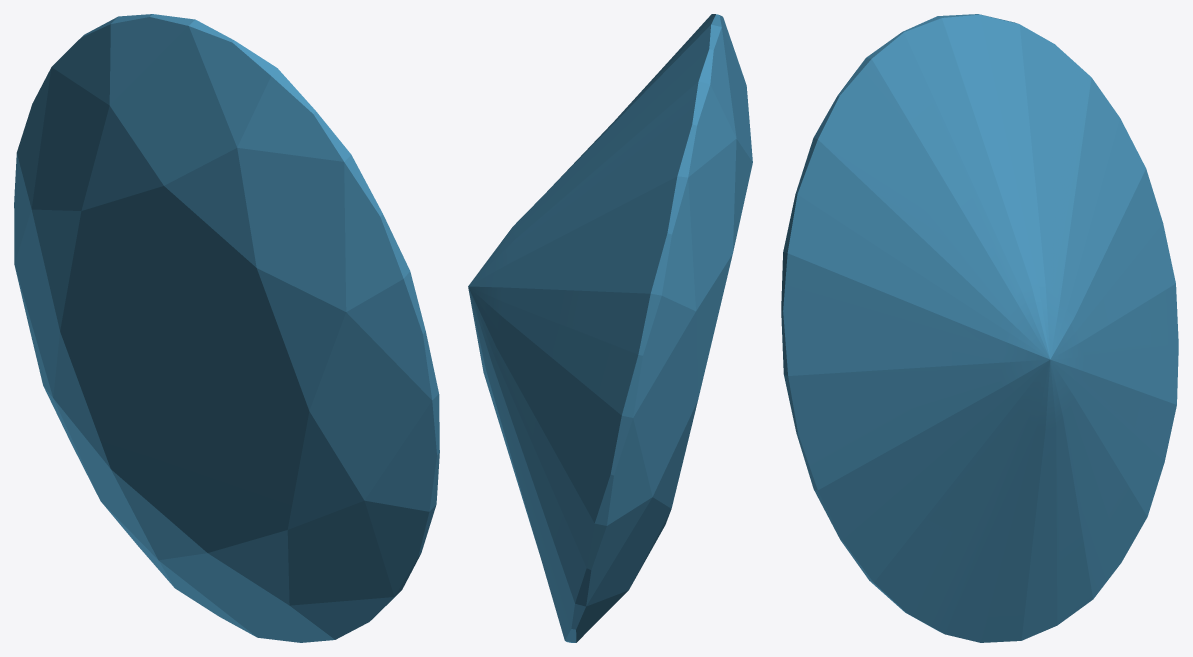
The model's file is TL4_8shapes_Oval_Classic_Stone.001 2.glb.
The picture shows the model from 3 angles, left to right: view 1: azimuth 30°, elevation 25°; view 2: azimuth 150°, elevation 25°; view 3: azimuth 270°, elevation 25°; orthographic projection. The views are drawn at different scales.
Visible parts, largest first — view 1: TL4_8shapes_Oval_Classic_Stone.001; view 2: TL4_8shapes_Oval_Classic_Stone.001; view 3: TL4_8shapes_Oval_Classic_Stone.001.
Part boxes in pixels (left/top/right/bottom): TL4_8shapes_Oval_Classic_Stone.001: left=14, top=14, right=439, bottom=642; TL4_8shapes_Oval_Classic_Stone.001: left=468, top=14, right=752, bottom=642; TL4_8shapes_Oval_Classic_Stone.001: left=781, top=14, right=1178, bottom=642.
Size of the model in its own units: 0.2523 by 0.5765 by 0.3604.
